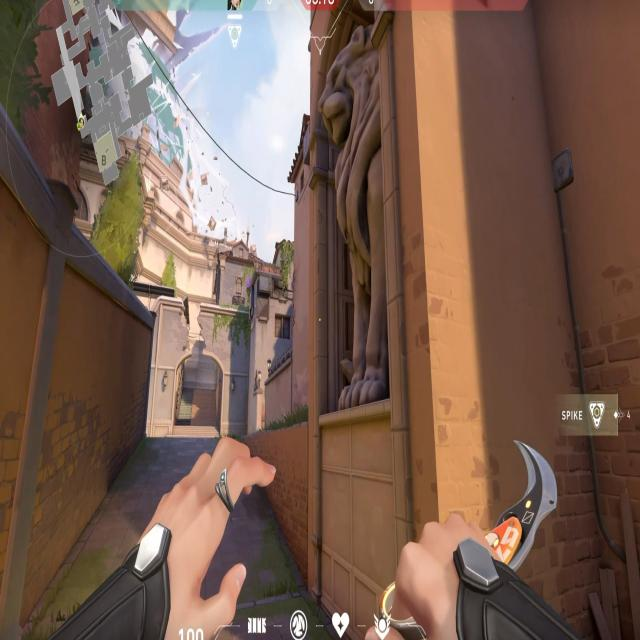Lion_Corner: (309, 0, 406, 453)
